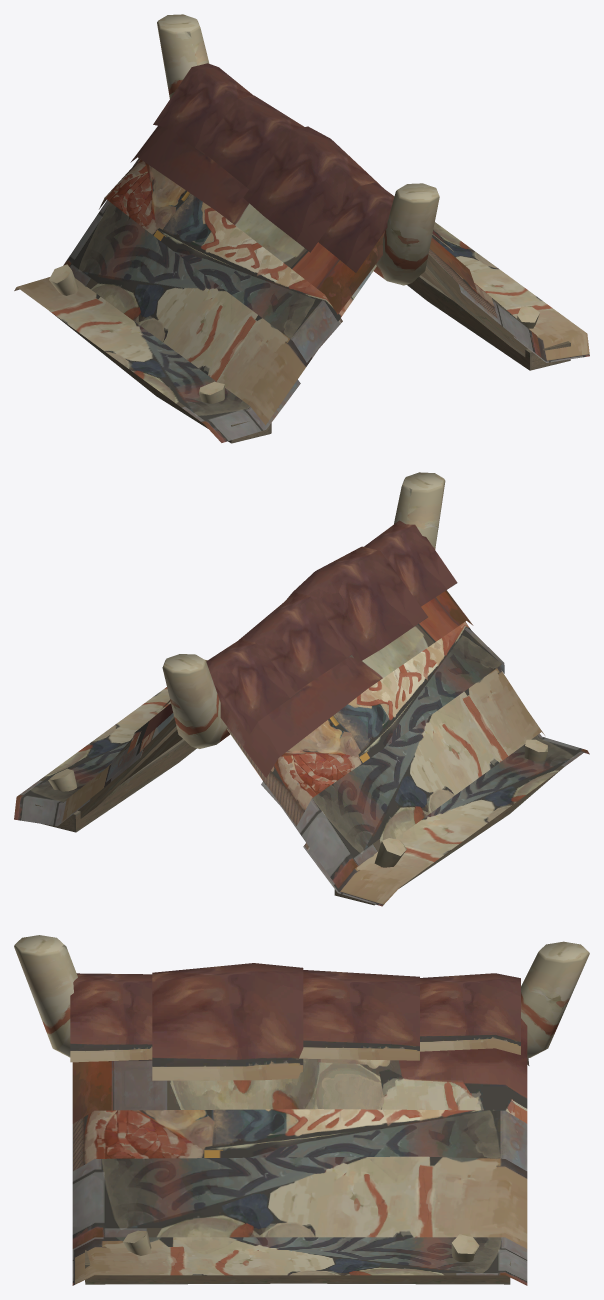
File: Area_Common_Build_Hili_House_01_Lod0.fbx
3 views of the same model, one above another, from view 1: azimuth 30°, elevation 25°; view 2: azimuth 150°, elevation 25°; view 3: azimuth 270°, elevation 25° (orthographic). The views are drawn at different scales.
Parts seen in each view (by area): view 1: Area_Common_Build_Hili_House_01_Lod0; view 2: Area_Common_Build_Hili_House_01_Lod0; view 3: Area_Common_Build_Hili_House_01_Lod0.
Boxes of the visible parts, <box> form: Area_Common_Build_Hili_House_01_Lod0: <box>14,14,589,443</box>; Area_Common_Build_Hili_House_01_Lod0: <box>14,472,589,906</box>; Area_Common_Build_Hili_House_01_Lod0: <box>14,935,589,1285</box>.
Size of the model in its own units: 3.2 by 1.8 by 3.8.
2 materials, 2 textured.
